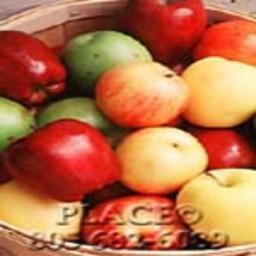apple: (5, 118, 120, 204), (117, 127, 207, 196), (96, 61, 189, 127), (61, 29, 147, 97), (118, 1, 207, 65), (1, 32, 65, 104)
